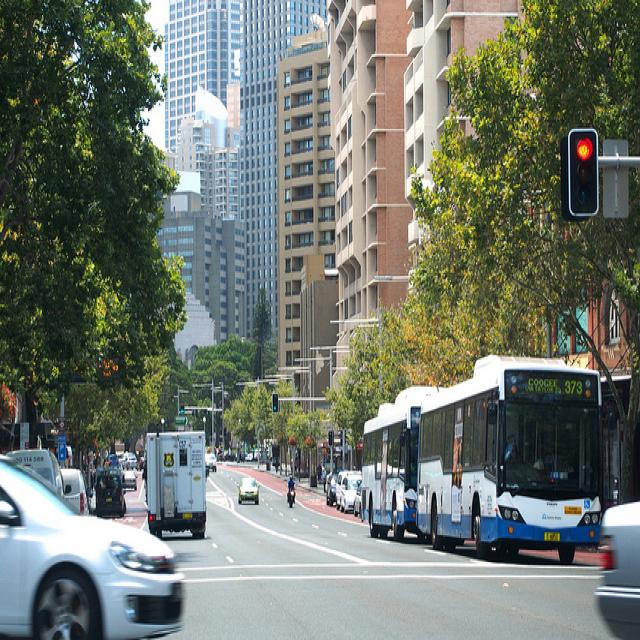motor: (287, 485, 295, 508)
